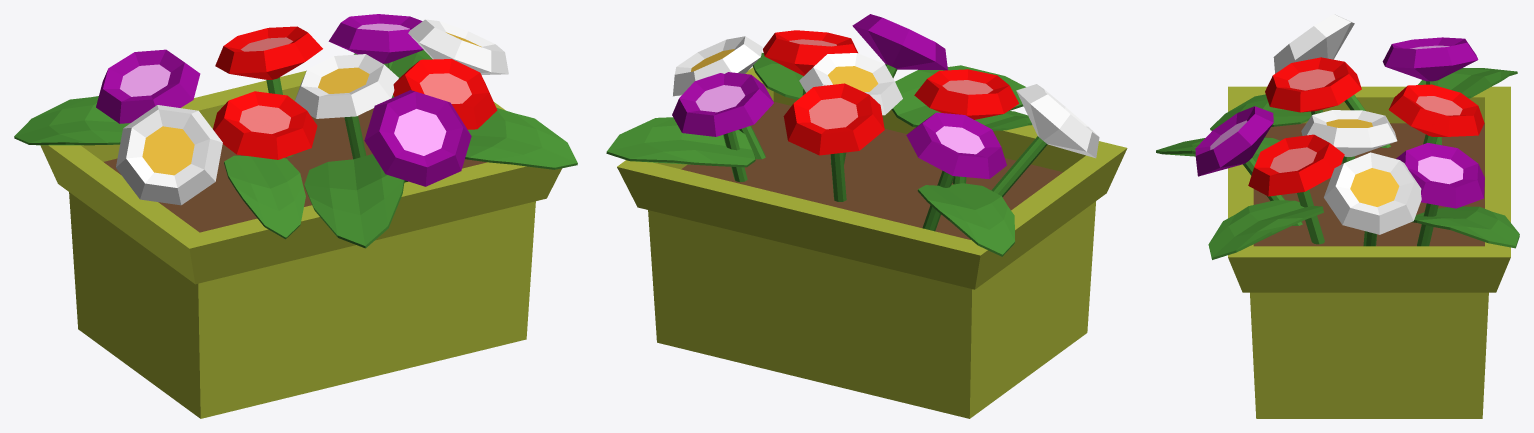
Rendered from Prop_Homeplant_06.fbx.
3 renders of one model, left to right at view 1: azimuth 30°, elevation 25°; view 2: azimuth 150°, elevation 25°; view 3: azimuth 270°, elevation 25°, orthographic. The views are drawn at different scales.
Visible parts, largest first — view 1: Prop_Homeplant_06; view 2: Prop_Homeplant_06; view 3: Prop_Homeplant_06.
Boxes of the visible parts, box(x1,y1,x2,y2) form: Prop_Homeplant_06: box(14, 14, 577, 418); Prop_Homeplant_06: box(606, 14, 1127, 418); Prop_Homeplant_06: box(1156, 14, 1519, 418).
Size of the model in its own units: 36.29 by 23.49 by 30.01.
